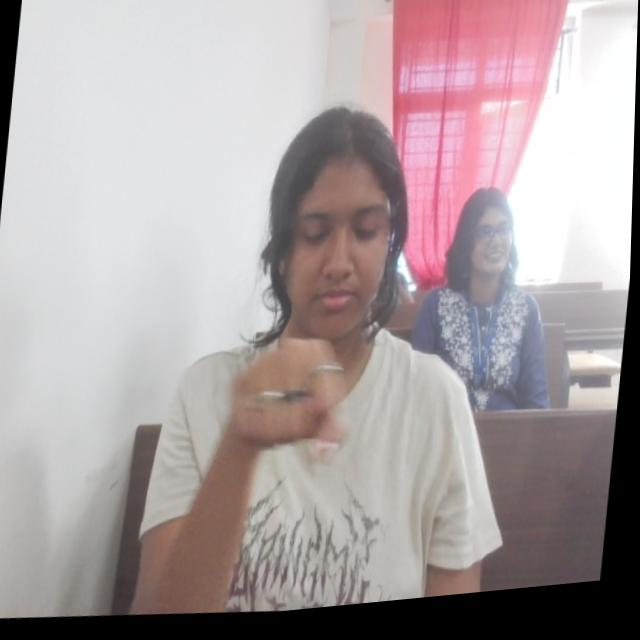yes: (226, 329, 363, 467)
